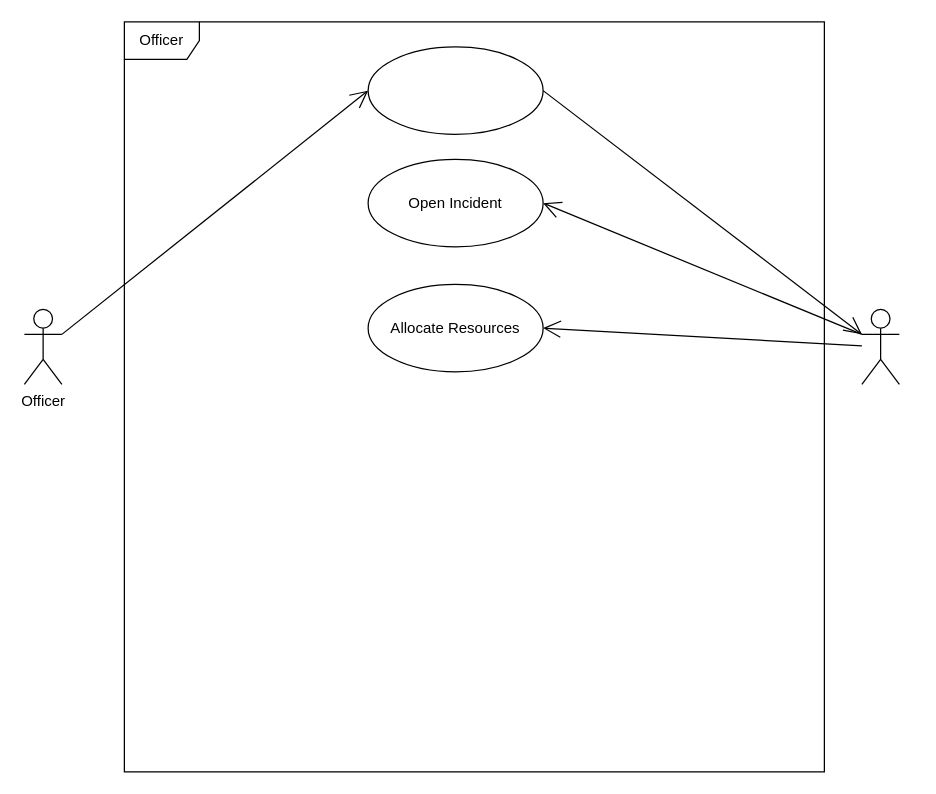
Some shapes in this 936 by 794 pixel diagram are drawn without their labels. The box of each missing label's shape, as (x1, y1, x2, y2) in pixels:
Dispacher: (861, 308, 899, 384)
Report Emergency: (367, 46, 543, 134)
